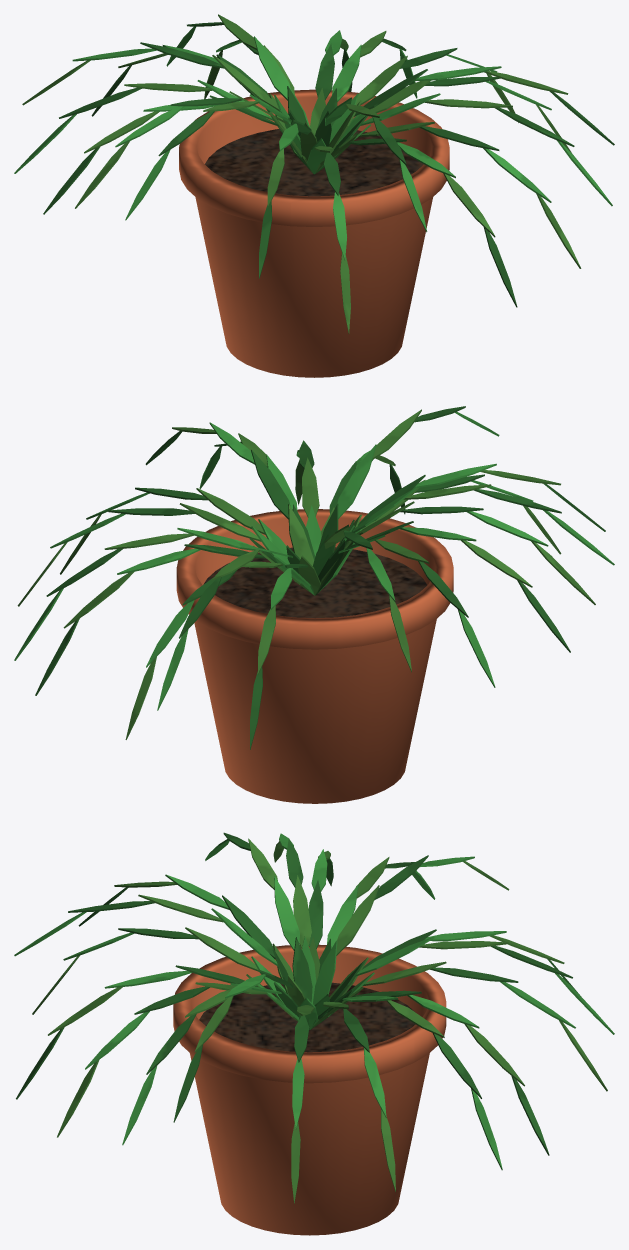
Rendered from a-realistic-fern-85323-realistic.glb.
The picture shows the model from 3 angles, top to bottom: view 1: azimuth 30°, elevation 25°; view 2: azimuth 150°, elevation 25°; view 3: azimuth 270°, elevation 25°; orthographic projection. The views are drawn at different scales.
Parts seen in each view (by area): view 1: plant; view 2: plant; view 3: plant.
Boxes of the visible parts, left/top/right/bottom form: plant: left=14, top=14, right=614, bottom=377; plant: left=14, top=406, right=614, bottom=803; plant: left=14, top=832, right=614, bottom=1235.
Size of the model in its own units: 0.6724 by 0.3604 by 0.669.
5 materials, 5 textured.
